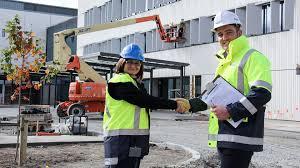hard hat: (210, 10, 241, 32), (121, 44, 145, 61)
high-vis: (208, 36, 272, 147), (102, 73, 150, 136)
